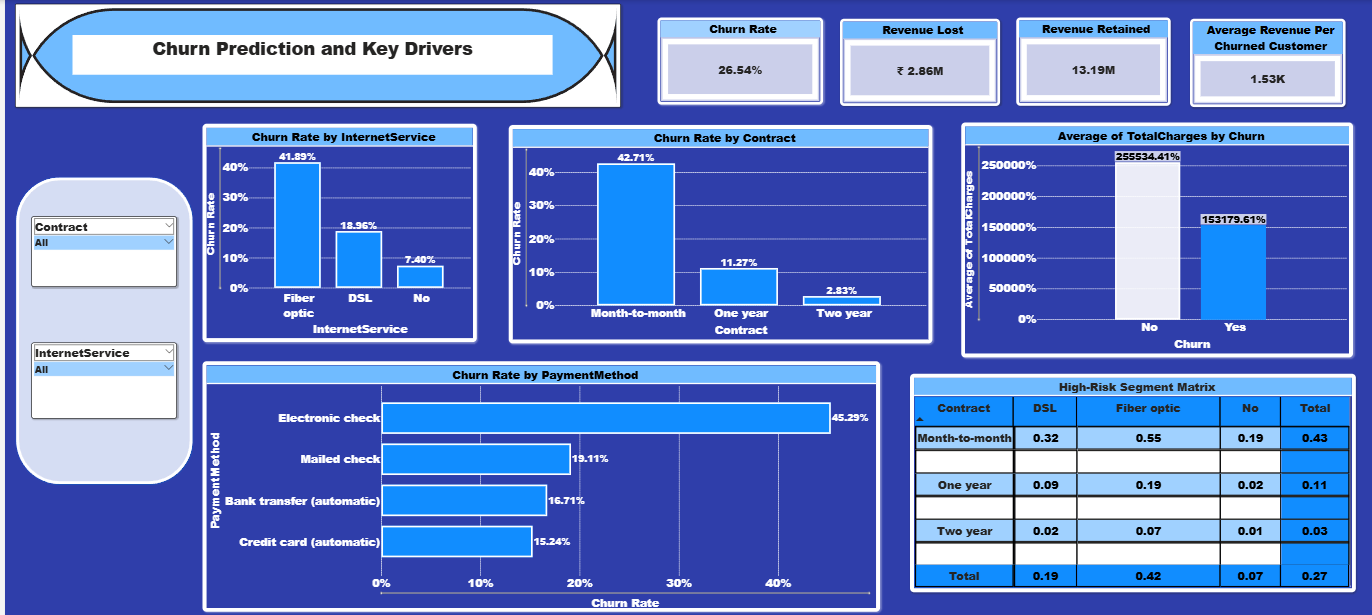

The page's visual inventory and layout, read from the dashboard file:
{"tool":"powerbi","page":{"name":"Churn Prediction & Key Drivers","canvas":[9999,4500],"ordinal":3},"visuals":[{"type":"shape","box":[72.2,24.1,4402.8,753.9],"z":0},{"type":"columnChart","fields":{"Category":["Telco.Churn"],"Y":["Avg(Telco.TotalCharges)"]},"box":[6953.1,890.2,2847,1708.2],"z":1000},{"type":"clusteredColumnChart","fields":{"Category":["Telco.Contract"],"Y":["Telco.Churn Rate"]},"box":[3665,906.2,3079.6,1587.9],"z":2000},{"type":"clusteredColumnChart","fields":{"Y":["Telco.Churn Rate"],"Category":["Telco.InternetService"]},"box":[1434.1,897.2,1993.9,1587.4],"z":3000},{"type":"clusteredBarChart","fields":{"Category":["Telco.PaymentMethod"],"Y":["Telco.Churn Rate"]},"box":[1435.5,2622.5,4924.1,1820.5],"z":4000},{"type":"pivotTable","title":"High-Risk Segment Matrix","fields":{"Rows":["Telco.Contract"],"Columns":["Telco.InternetService"],"Values":["Telco.Churn Rate"]},"box":[6576.2,2718.7,3240,1587.9],"z":5000},{"type":"cardVisual","title":"Churn Rate","fields":{"Data":["Telco.Churn Rate"]},"box":[4739.7,128.3,1203,633.6],"z":6000},{"type":"cardVisual","title":"Revenue Lost","fields":{"Data":["Telco.Revenue Lost"]},"box":[6071,136.3,1162.9,633.6],"z":7000},{"type":"cardVisual","title":"Revenue Retained","fields":{"Data":["Telco.Revenue Retained"]},"box":[7346.1,128.3,1122.8,641.6],"z":8000},{"type":"shape","box":[72.2,1283.2,1299.2,2245.5],"z":9000},{"type":"slicer","fields":{"Values":["Telco.Contract"]},"box":[192.5,1571.9,1058.6,513.3],"z":10000},{"type":"slicer","fields":{"Values":["Telco.InternetService"]},"box":[192.5,2486.1,1058.6,553.4],"z":11000},{"type":"textbox","box":[489.2,256.6,3488.6,288.7],"z":12000},{"type":"cardVisual","title":"Average Revenue Per Churned Customer","fields":{"Data":["Telco.Avg Revenue per Churned"]},"box":[8613.2,136.3,1130.8,641.6],"z":13000}]}

Visuals, with their boxes in screenshot pixels (x1, y1, x2, y2), scaled from the page's 9999x4500 canvas onto the 1372x615 screenshot:
shape: <bbox>10, 3, 614, 106</bbox>
columnChart - Telco.Churn x Avg(Telco.TotalCharges): <bbox>954, 122, 1345, 355</bbox>
clusteredColumnChart - Telco.Contract x Telco.Churn Rate: <bbox>503, 124, 925, 341</bbox>
clusteredColumnChart - Telco.Churn Rate x Telco.InternetService: <bbox>197, 123, 470, 340</bbox>
clusteredBarChart - Telco.PaymentMethod x Telco.Churn Rate: <bbox>197, 358, 873, 607</bbox>
"High-Risk Segment Matrix" pivotTable: <bbox>902, 372, 1347, 589</bbox>
"Churn Rate" cardVisual: <bbox>650, 18, 815, 104</bbox>
"Revenue Lost" cardVisual: <bbox>833, 19, 993, 105</bbox>
"Revenue Retained" cardVisual: <bbox>1008, 18, 1162, 105</bbox>
shape: <bbox>10, 175, 188, 482</bbox>
slicer - Telco.Contract: <bbox>26, 215, 172, 285</bbox>
slicer - Telco.InternetService: <bbox>26, 340, 172, 415</bbox>
textbox: <bbox>67, 35, 546, 75</bbox>
"Average Revenue Per Churned Customer" cardVisual: <bbox>1182, 19, 1337, 106</bbox>
